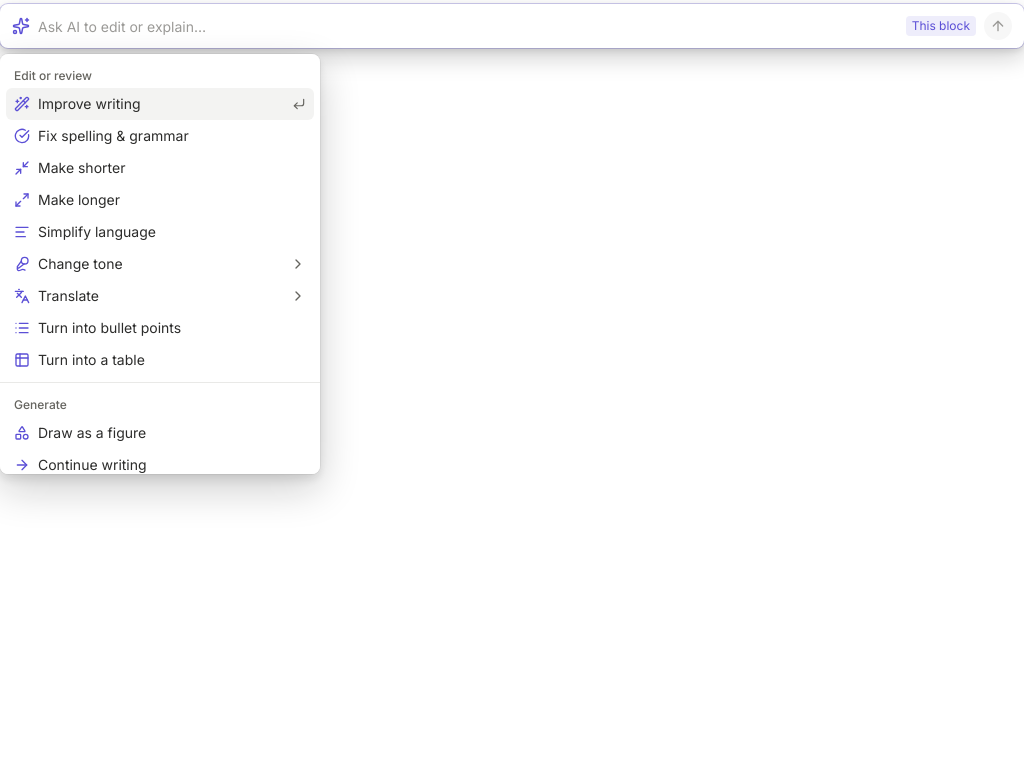
Scenario: Ask AI progress while it works › says it is thinking, not writing, before the first word
Type "shorter" into the dropdown labelled "Ask AI" at (468, 26), box top-left (38, 4), bottom-right (898, 48)
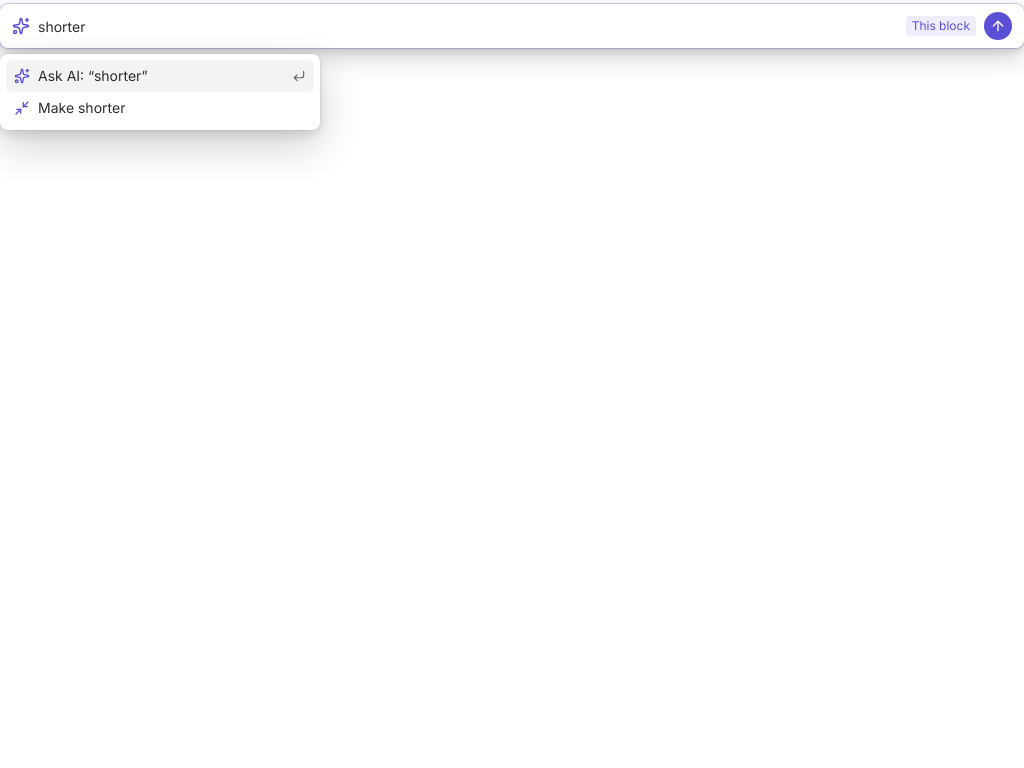
Press ArrowDown in the dropdown named "Ask AI", box top-left (38, 4), bottom-right (898, 48)
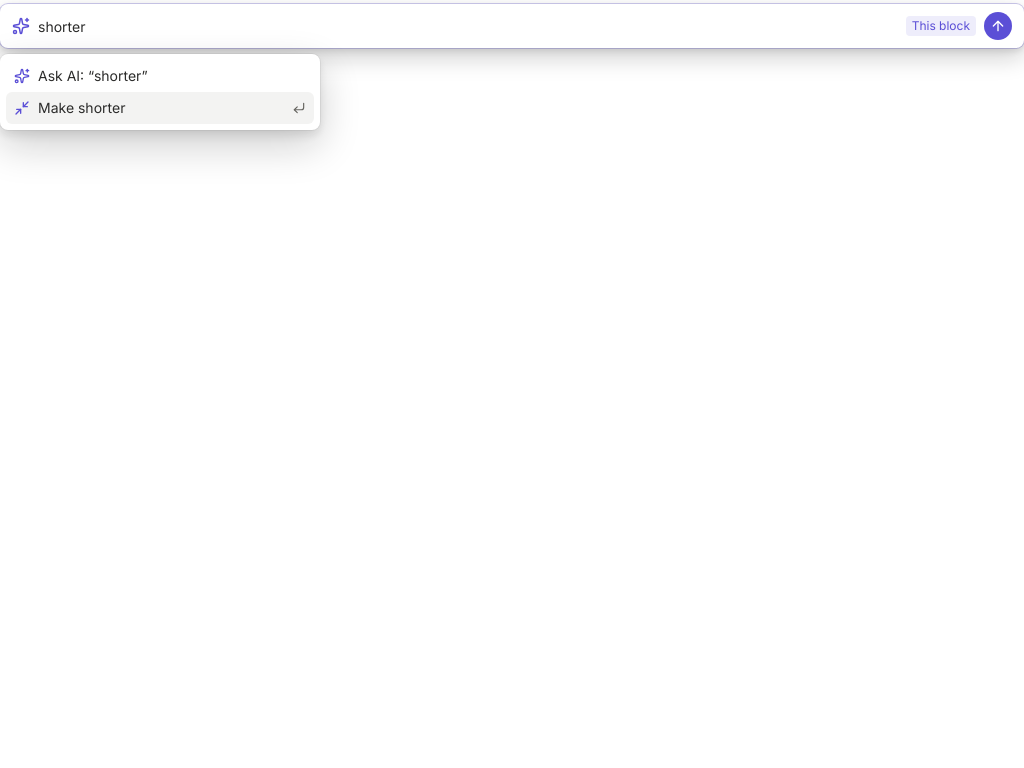
Press Enter in the dropdown named "Ask AI", box top-left (38, 4), bottom-right (898, 48)
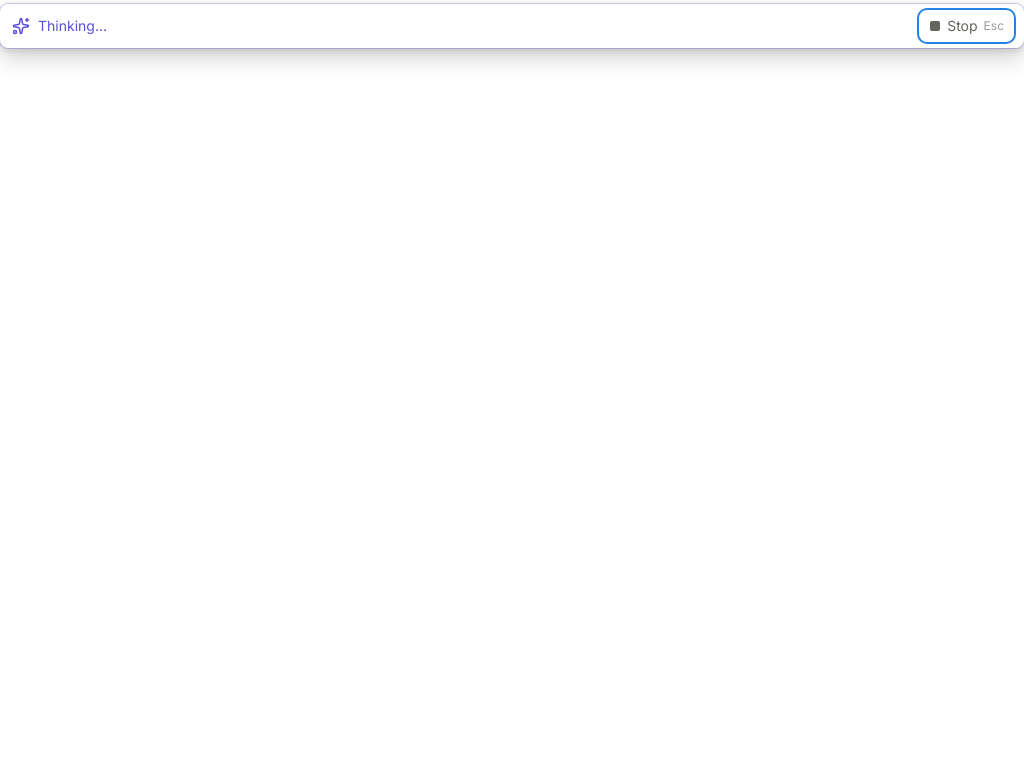
Now the button "Stop Esc" is shown, box top-left (921, 12), bottom-right (1012, 40)
Now the message reads "Thinking…", box top-left (38, 17), bottom-right (107, 34)
